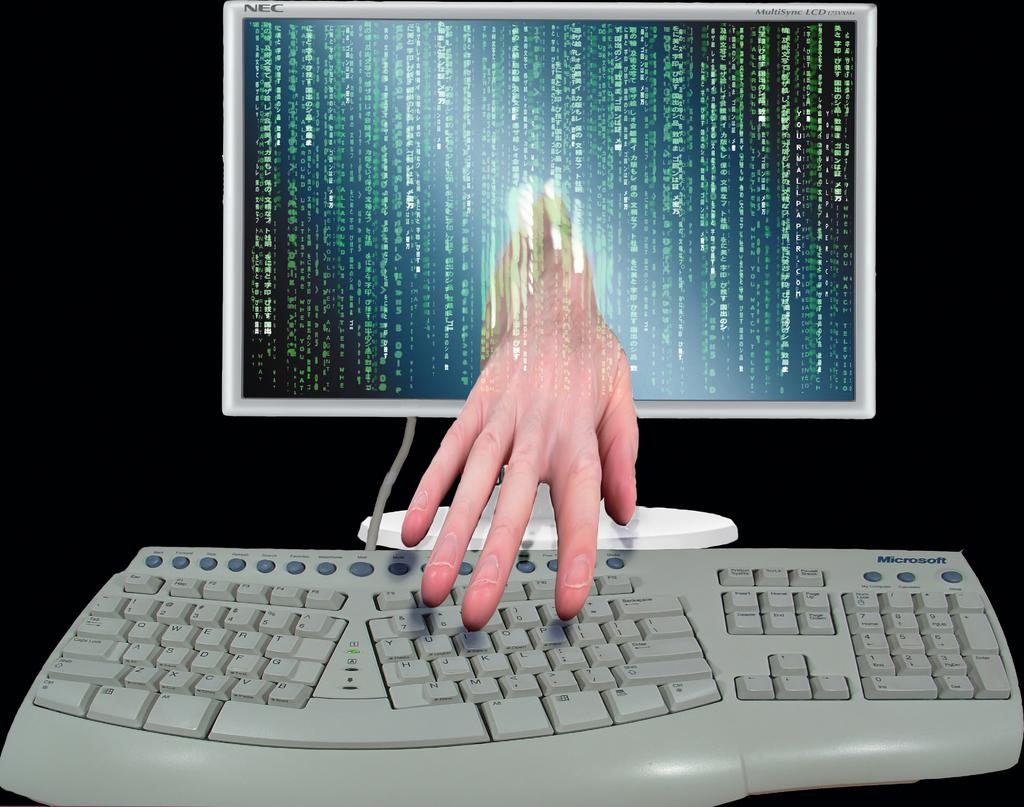Computer-keyboard: (0, 417, 1023, 806)
